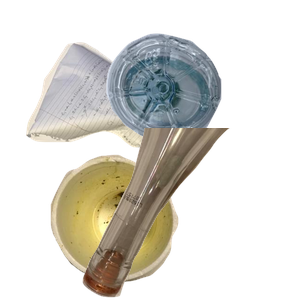glass: (80, 128, 300, 300)
paper: (23, 40, 223, 180)
plastic: (104, 31, 300, 168)
trash: (48, 152, 219, 300)
